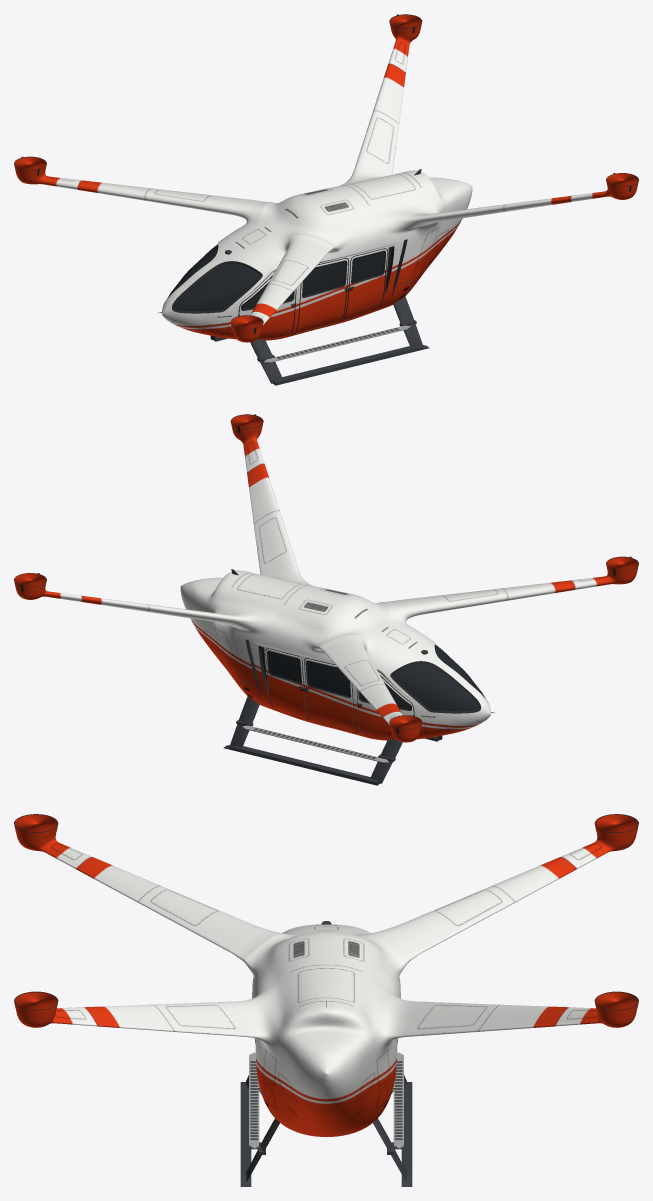
The model's file is body.glb.
The picture shows the model from 3 angles, top to bottom: view 1: azimuth 30°, elevation 25°; view 2: azimuth 150°, elevation 25°; view 3: azimuth 270°, elevation 25°; orthographic projection. The views are drawn at different scales.
Parts seen in each view (by area): view 1: body.001; view 2: body.001; view 3: body.001.
Part boxes in pixels (x1,y1,x2,y2): body.001: [14, 14, 638, 385]; body.001: [14, 414, 638, 785]; body.001: [14, 814, 638, 1186].
Size of the model in its own units: 8.16 by 3.8 by 8.16.
Materials: 1 (1 with a texture image).
